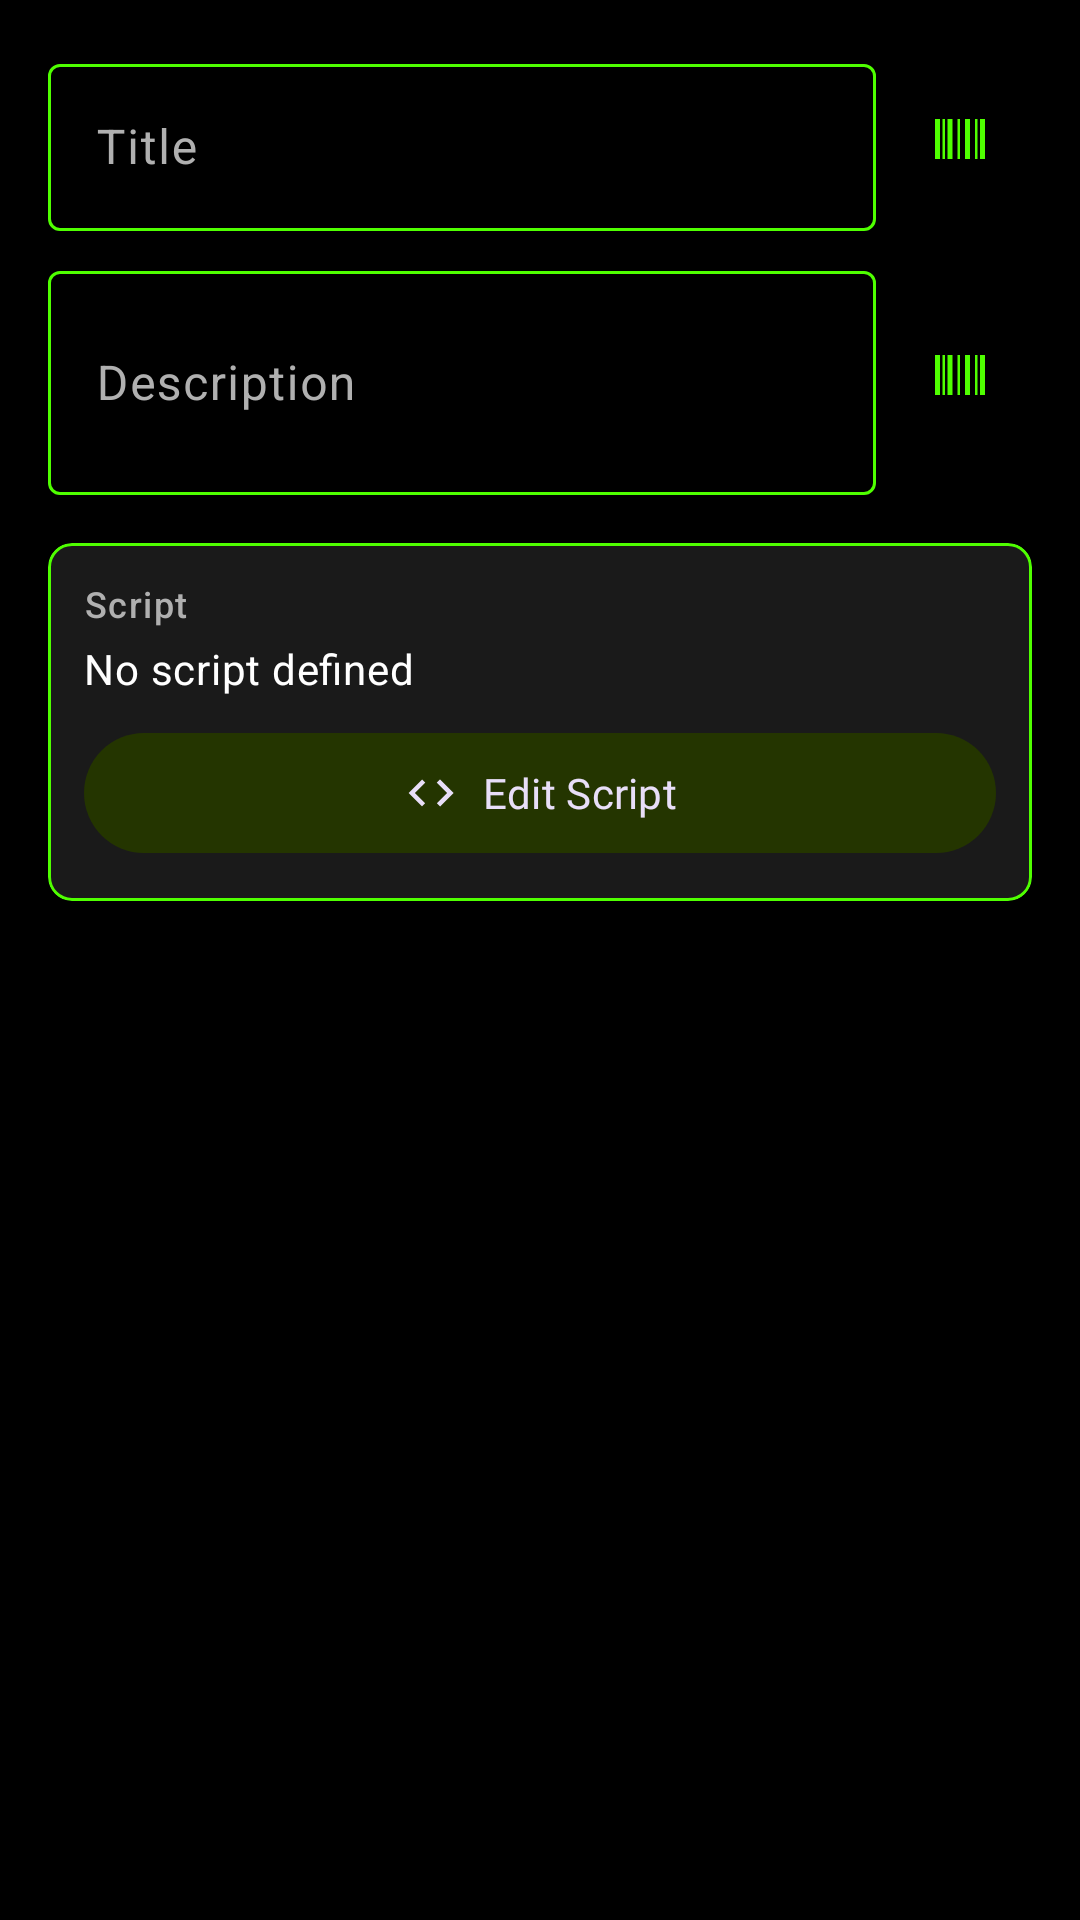

Icons on this 1080*1920 Android screen, each with the point to tap as (x,y):
Scan barcode: (960,139), (960,375)
